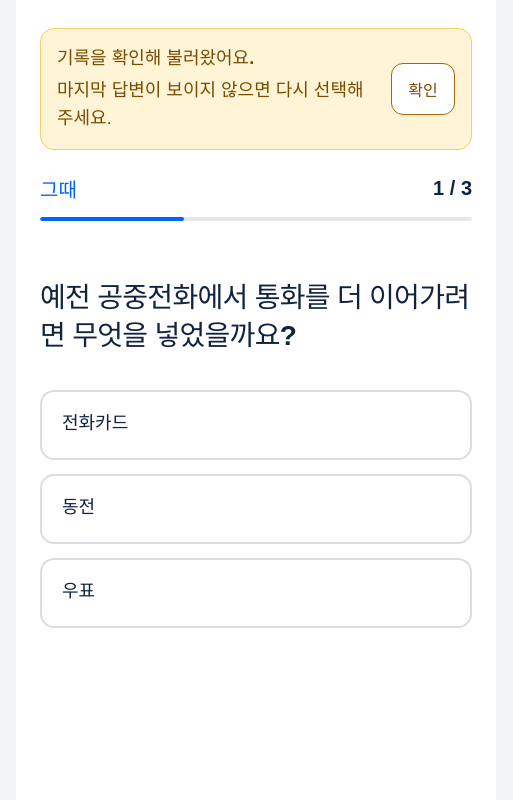
Test: QuizApp › 이전 유효 슬롯으로 복구하면 현재 화면 상단에 한 번 안내한다
Expected: the text "기록을 확인해 불러왔어요." is shown, [57,48,254,68]
Click the button "확인". click: (423, 89)
box: [391,63,455,115]
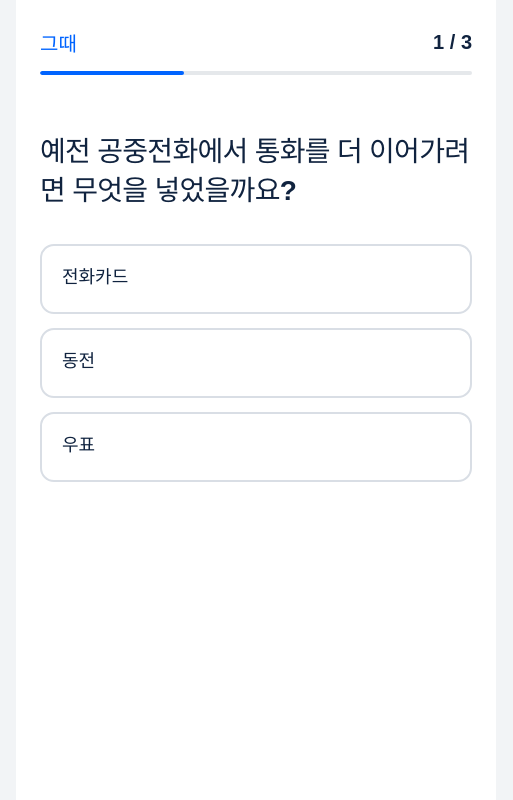
Now the text "기록을 확인해 불러왔어요." is gone
